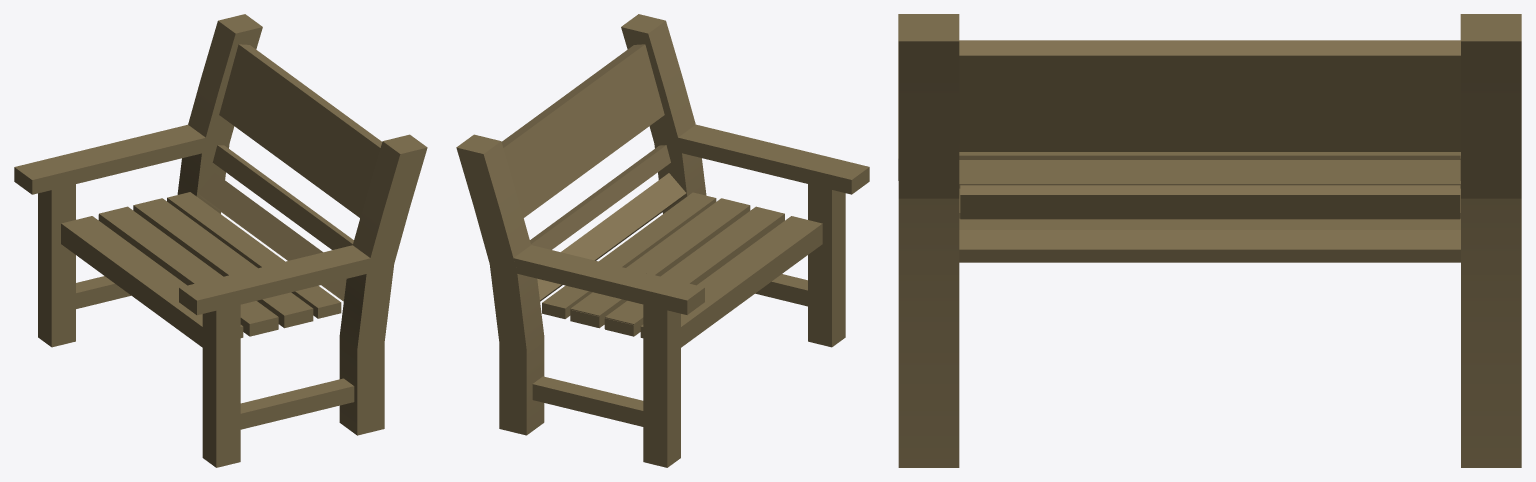
Rendered from Wooden_Bench.fbx.
3 renders of one model, left to right at view 1: azimuth 30°, elevation 25°; view 2: azimuth 150°, elevation 25°; view 3: azimuth 270°, elevation 25°, orthographic. The views are drawn at different scales.
Visible parts, largest first — view 1: pCube74; view 2: pCube74; view 3: pCube74.
Part boxes in pixels (x1,y1,x2,y2): pCube74: (14, 14, 427, 467); pCube74: (456, 14, 869, 467); pCube74: (898, 14, 1521, 467).
Size of the model in its own units: 0.3215 by 0.3605 by 0.4403.
